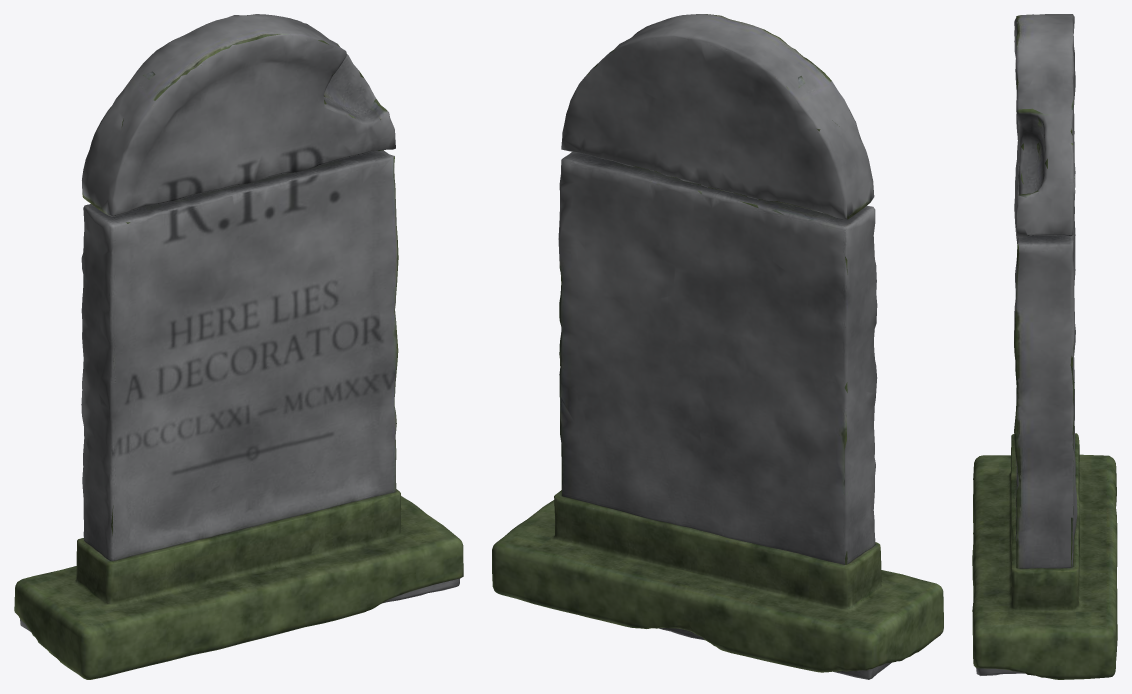
Rendered from tombstone_rip.glb.
The picture shows the model from 3 angles, left to right: view 1: azimuth 30°, elevation 25°; view 2: azimuth 150°, elevation 25°; view 3: azimuth 270°, elevation 25°; orthographic projection. The views are drawn at different scales.
Parts seen in each view (by area): view 1: Headstone, Headstone_Moss; view 2: Headstone, Headstone_Moss; view 3: Headstone, Headstone_Moss.
Boxes of the visible parts, x1,y1,x2,y2 form: Headstone: (20,14,460,631); Headstone_Moss: (14,489,463,679); Headstone: (558,14,892,679); Headstone_Moss: (492,490,943,672); Headstone: (976,14,1077,675); Headstone_Moss: (972,433,1117,679).
Bounding box in the file's own units: 0.7875 × 1.15 × 0.2676.
Materials: 1 (1 with a texture image).
